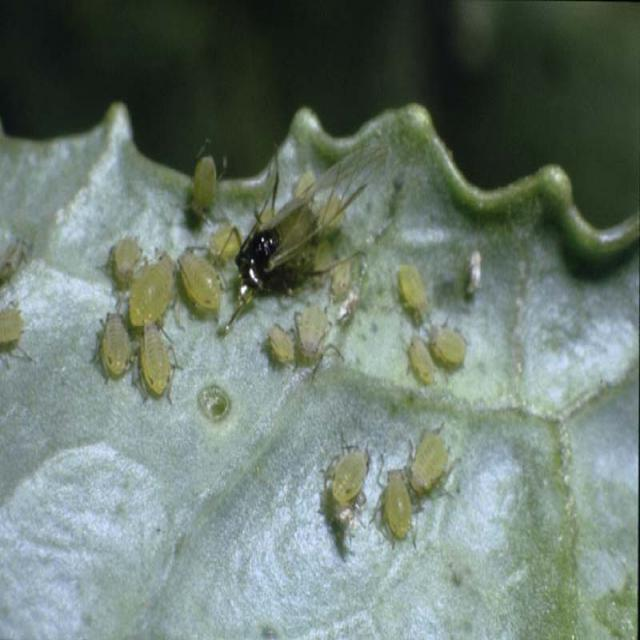Aphids: (76, 212, 220, 416), (314, 422, 474, 558), (388, 244, 486, 400), (260, 306, 362, 384)
